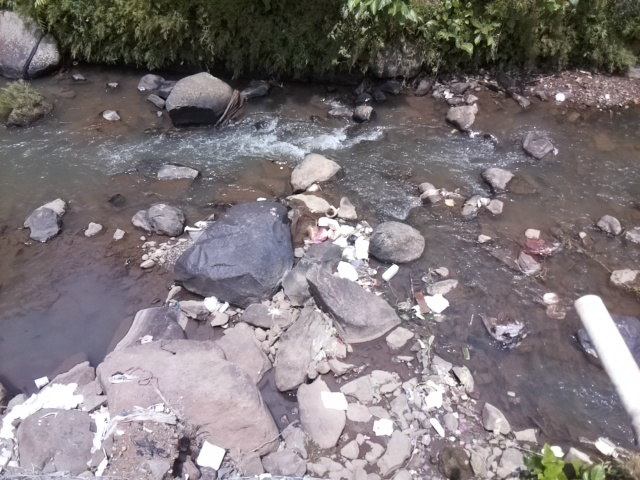Sampah_Plastik: (1, 378, 83, 443), (86, 403, 176, 453), (520, 234, 562, 257), (307, 228, 328, 245), (202, 296, 221, 311), (344, 233, 358, 246)
Sampah_Styrofoam: (194, 439, 229, 471), (317, 389, 352, 412), (326, 216, 346, 250), (423, 292, 452, 313), (335, 259, 359, 281), (371, 416, 396, 437), (379, 263, 401, 282), (355, 235, 370, 259)
